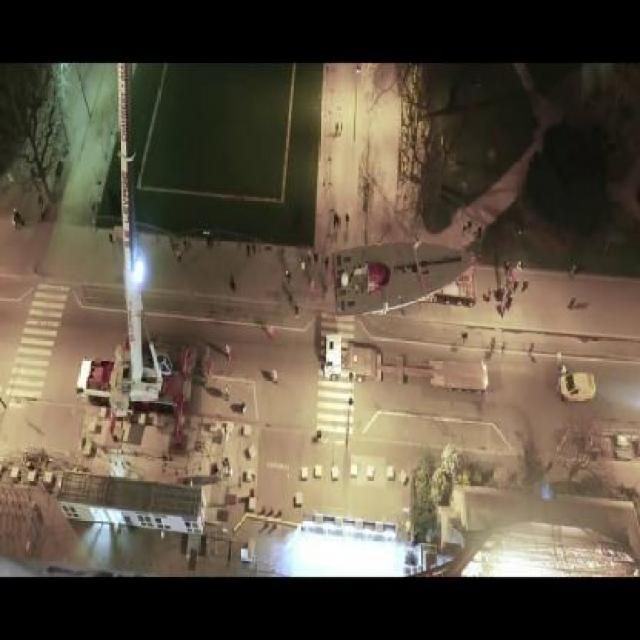Mobile Crane: (68, 62, 203, 444)
